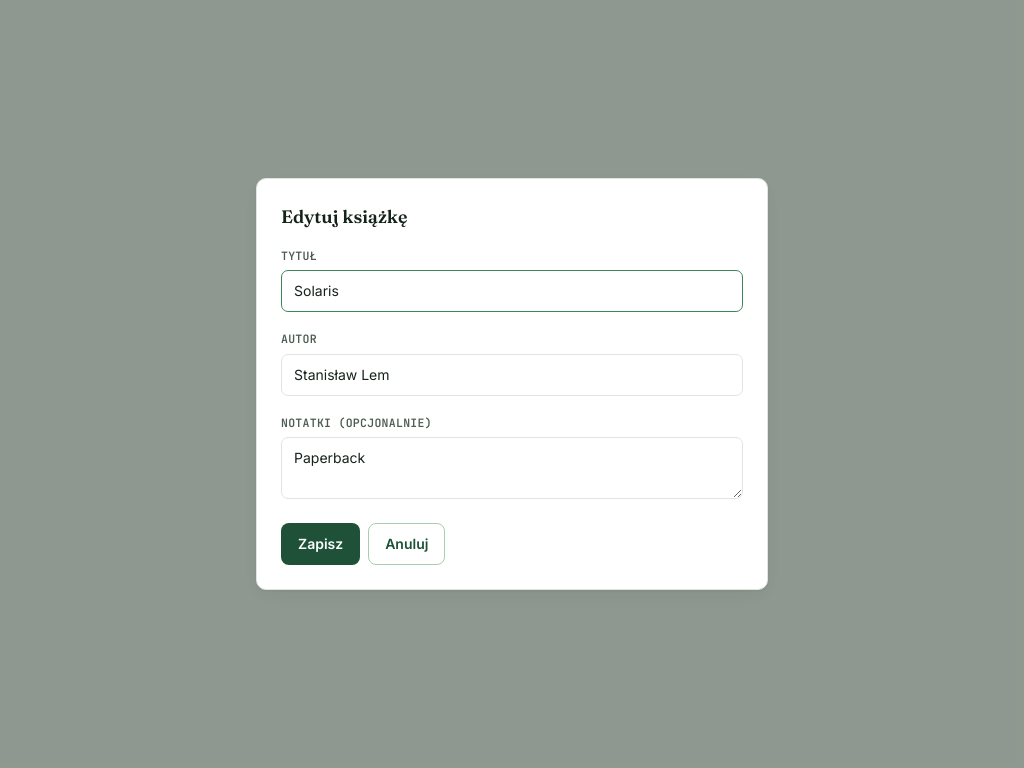
EditBookModal › keeps the dialog open and shows the error when the save fails
Click the button "Zapisz". click: [321, 544]
box: [281,523,360,565]
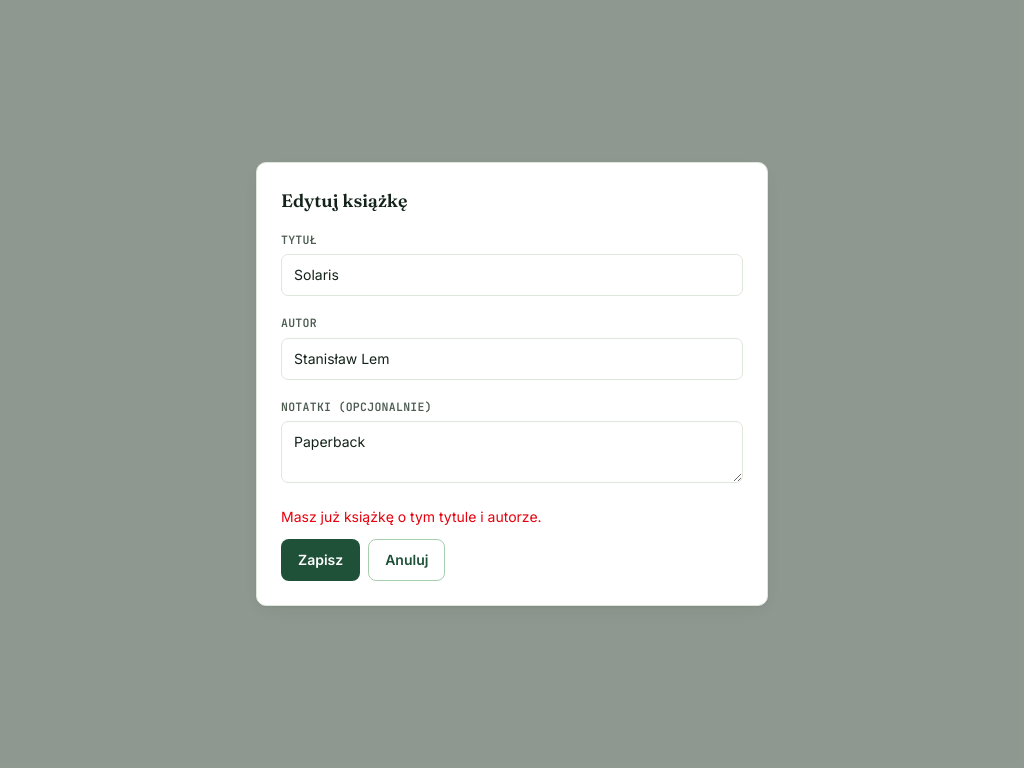
Expected: the message reads "Masz już książkę o tym tytule i autorze.", [281,508,542,525]
